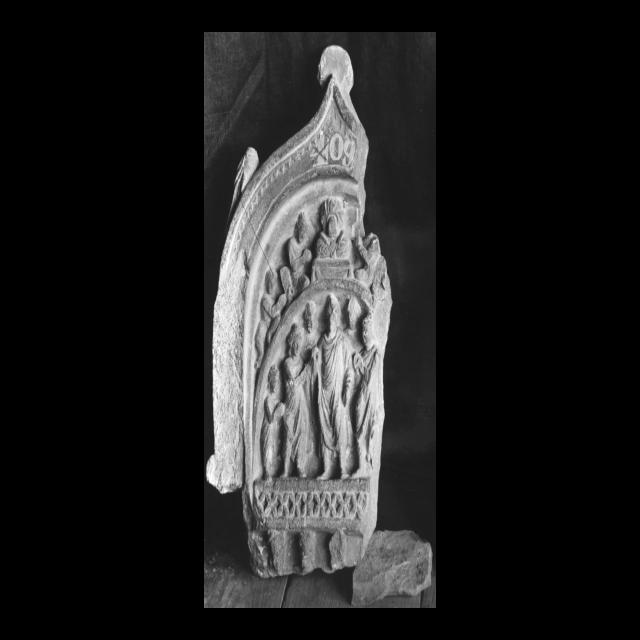buddha-standing: (316, 293, 354, 480)
